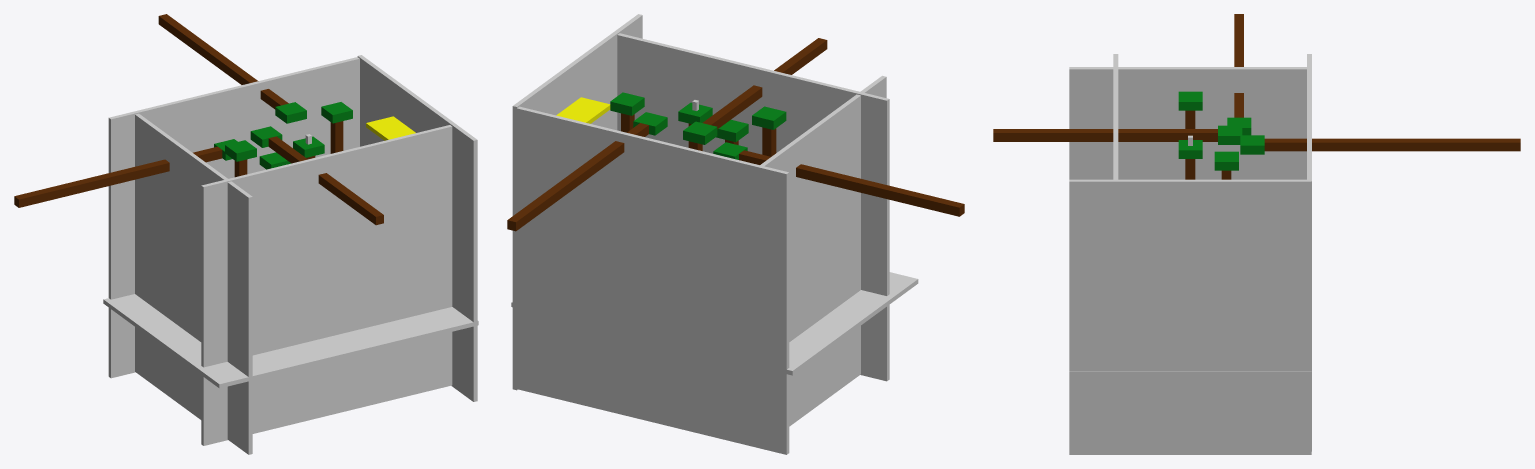
File: Level_Concept_6.fbx
3 renders of one model, left to right at view 1: azimuth 30°, elevation 25°; view 2: azimuth 150°, elevation 25°; view 3: azimuth 270°, elevation 25°, orthographic. The views are drawn at different scales.
Visible parts, largest first — view 1: Cube__2_, Cube__4_, Cube__1_, Cube__3_, Cube, Root_5, Root_4, Root_7, Finish, Platform_6, Platform_1, Platform_4 (+1 smaller); view 2: Cube__1_, Cube__2_, Cube__4_, Cube__3_, Cube, Root_5, Root_4, Root_7, Finish, Platform_6, Platform_1, Platform_7 (+3 smaller); view 3: Cube__3_, Cube__4_, Root_4, Root_7, Cube, Cube__1_, Root_5, Cube__2_.
Part boxes in pixels (left/top/right/bottom): Cube__2_: left=201, top=125, right=452, bottom=445; Cube__4_: left=135, top=113, right=252, bottom=454; Cube__1_: left=108, top=57, right=359, bottom=378; Cube__3_: left=357, top=55, right=477, bottom=401; Cube: left=103, top=294, right=478, bottom=388; Root_5: left=14, top=146, right=222, bottom=207; Root_4: left=158, top=14, right=288, bottom=109; Root_7: left=268, top=136, right=383, bottom=225; Finish: left=366, top=116, right=415, bottom=140; Platform_6: left=321, top=102, right=352, bottom=123; Platform_1: left=225, top=140, right=256, bottom=161; Platform_4: left=275, top=102, right=306, bottom=123; Cube__1_: left=517, top=106, right=789, bottom=454; Cube__2_: left=617, top=33, right=889, bottom=381; Cube__4_: left=760, top=75, right=886, bottom=426; Cube__3_: left=512, top=14, right=642, bottom=390; Cube: left=511, top=272, right=918, bottom=375; Root_5: left=739, top=150, right=964, bottom=216; Root_4: left=507, top=123, right=648, bottom=231; Root_7: left=702, top=38, right=827, bottom=129; Finish: left=556, top=97, right=610, bottom=123; Platform_6: left=610, top=92, right=644, bottom=115; Platform_1: left=752, top=106, right=786, bottom=129; Platform_7: left=683, top=121, right=717, bottom=144; Cube__3_: left=1069, top=179, right=1311, bottom=454; Cube__4_: left=1069, top=67, right=1306, bottom=179; Root_4: left=1264, top=138, right=1520, bottom=151; Root_7: left=993, top=129, right=1217, bottom=141; Cube: left=1069, top=371, right=1311, bottom=376; Cube__1_: left=1307, top=54, right=1311, bottom=451; Root_5: left=1234, top=14, right=1243, bottom=117; Cube__2_: left=1113, top=54, right=1118, bottom=179.
Size of the model in its own units: 9479 by 6214 by 10866.
